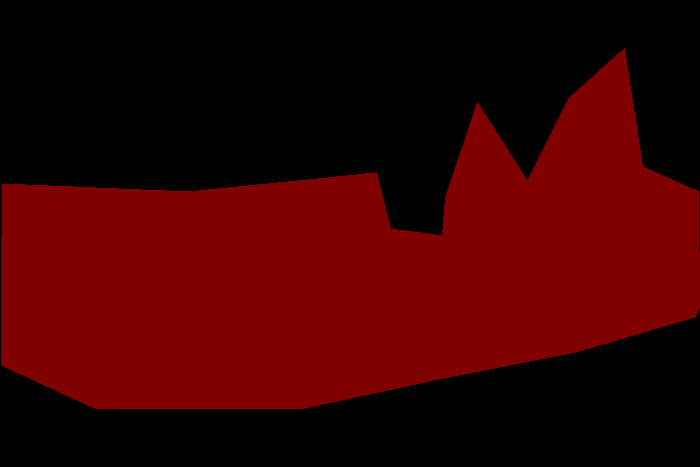fire: (1, 48, 699, 409)
